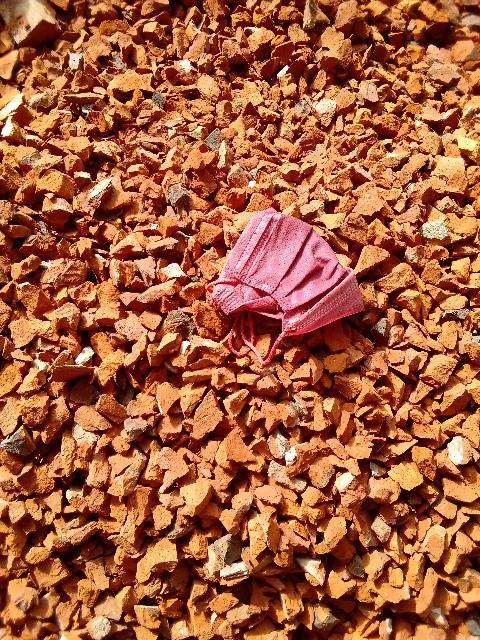mask: (218, 209, 348, 337)
